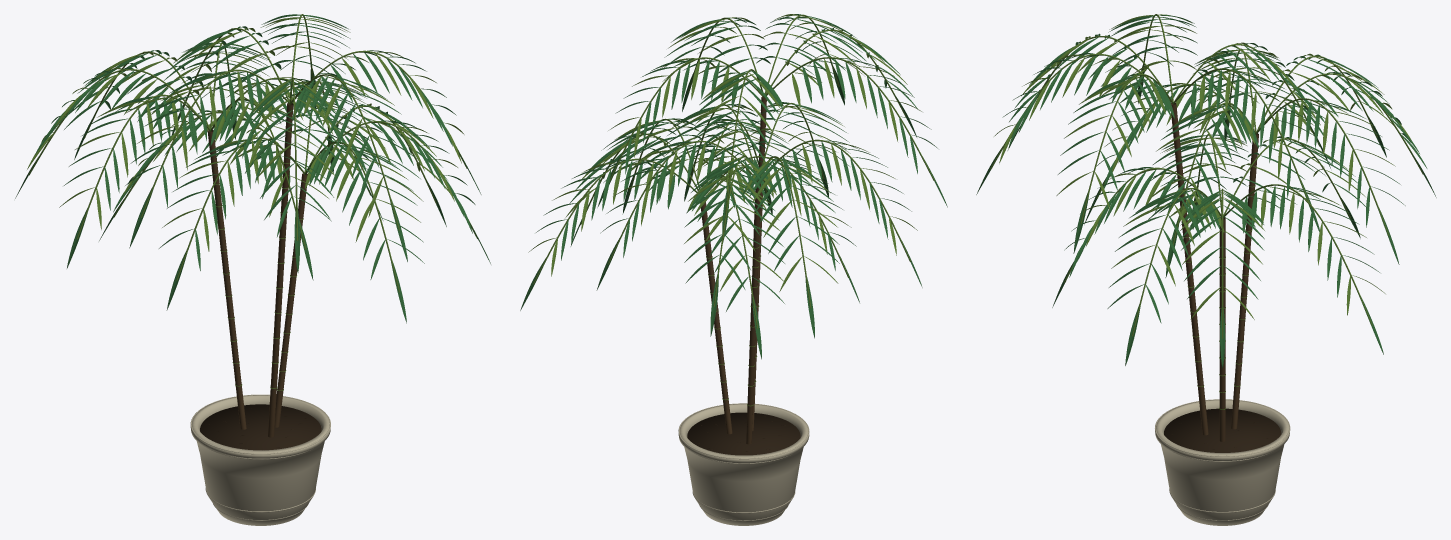
Rendered from Plant_Palm.fbx.
3 renders of one model, left to right at view 1: azimuth 30°, elevation 25°; view 2: azimuth 150°, elevation 25°; view 3: azimuth 270°, elevation 25°, orthographic. The views are drawn at different scales.
Parts seen in each view (by area): view 1: Glazed ceramic planter.003, Visible potting soil.003, Palm cane.005, Palm cane.004, Palm cane.003; view 2: Glazed ceramic planter.003, Visible potting soil.003, Palm cane.004, Palm cane.003, Palm cane.005; view 3: Glazed ceramic planter.003, Visible potting soil.003, Palm cane.005, Palm cane.004, Palm cane.003.
Part boxes in pixels (x1,y1,x2,y2): Glazed ceramic planter.003: [190, 395, 330, 525]; Visible potting soil.003: [200, 404, 321, 450]; Palm cane.005: [268, 103, 293, 437]; Palm cane.004: [207, 130, 246, 429]; Palm cane.003: [274, 173, 307, 427]; Glazed ceramic planter.003: [678, 403, 809, 525]; Visible potting soil.003: [687, 412, 800, 455]; Palm cane.004: [746, 181, 760, 444]; Palm cane.003: [700, 202, 732, 434]; Palm cane.005: [752, 96, 766, 430]; Glazed ceramic planter.003: [1155, 399, 1290, 525]; Visible potting soil.003: [1164, 408, 1281, 452]; Palm cane.005: [1171, 102, 1208, 435]; Palm cane.004: [1231, 133, 1258, 429]; Palm cane.003: [1219, 217, 1225, 441].
Size of the model in its own units: 1.36 by 1.64 by 1.49.
